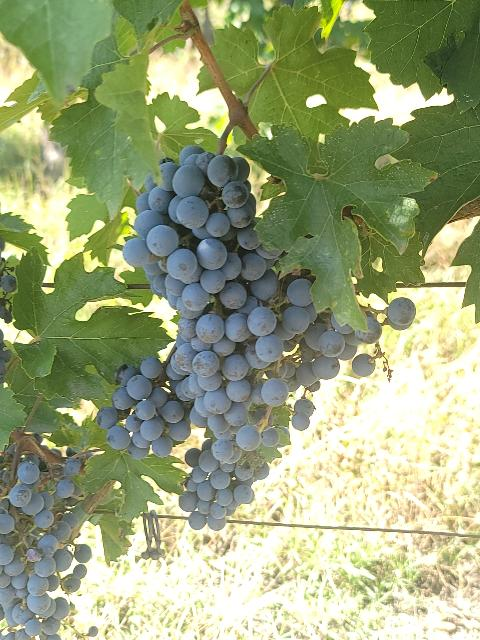grapes: (122, 145, 285, 420), (0, 455, 90, 640), (96, 356, 190, 459), (179, 439, 270, 531)
